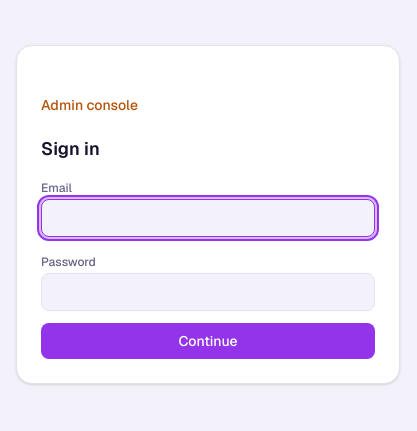
admin sign-in › shows the API's message for a wrong password and stays on the password step
Type "ops@example.com" into the field labelled "Email" at (208, 218), box 41,198 -> 375,236
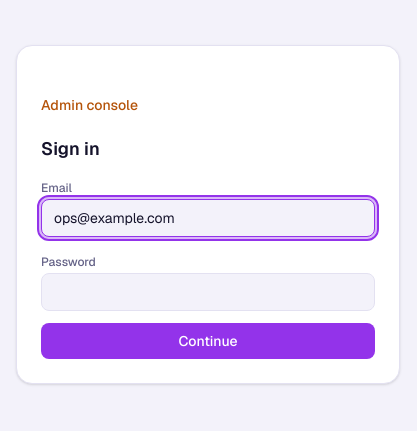
Type "correct horse battery" into the password field labelled "Password" at (208, 292), box 41,272 -> 375,310
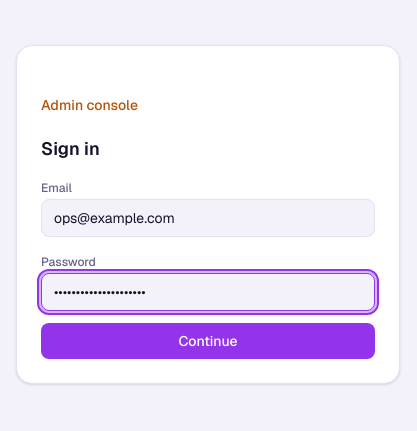
Click the button "Continue" at (208, 340), box 41,322 -> 375,358
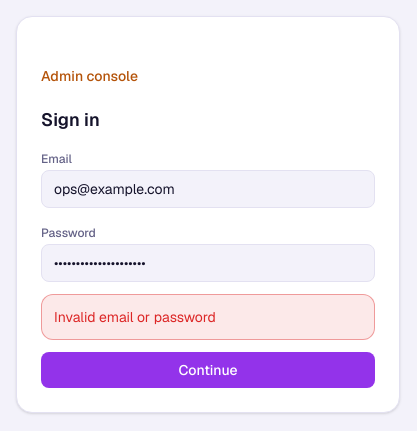
Check: the button "Continue" is shown, box 41,352 -> 375,388
Check: the message reads "Invalid email or password", box 54,308 -> 216,326
